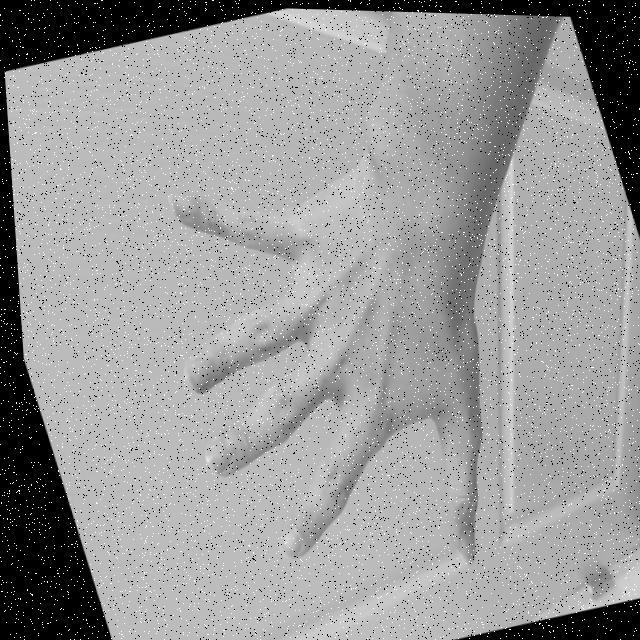no-gloves: (116, 126, 531, 618)
